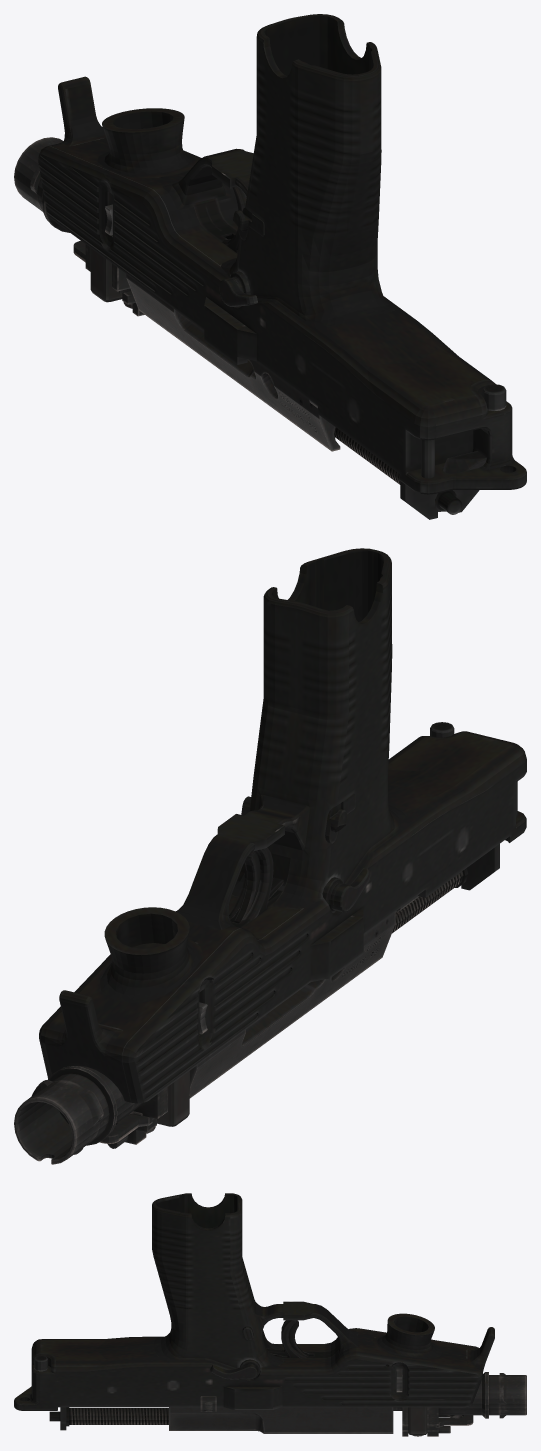
3 renders of one model, top to bottom at view 1: azimuth 30°, elevation 25°; view 2: azimuth 150°, elevation 25°; view 3: azimuth 270°, elevation 25°, orthographic. The views are drawn at different scales.
Parts seen in each view (by area): view 1: TW_5de7bd7bfd6b4e6e2276dc25_PZ_Import; view 2: TW_5de7bd7bfd6b4e6e2276dc25_PZ_Import; view 3: TW_5de7bd7bfd6b4e6e2276dc25_PZ_Import.
Part boxes in pixels (bbox=[...]): TW_5de7bd7bfd6b4e6e2276dc25_PZ_Import: bbox=[14, 14, 526, 519]; TW_5de7bd7bfd6b4e6e2276dc25_PZ_Import: bbox=[14, 548, 526, 1164]; TW_5de7bd7bfd6b4e6e2276dc25_PZ_Import: bbox=[14, 1193, 526, 1436].
Size of the model in its own units: 0.0277 by 0.1751 by 0.087.
Materials: 1 (1 with a texture image).
